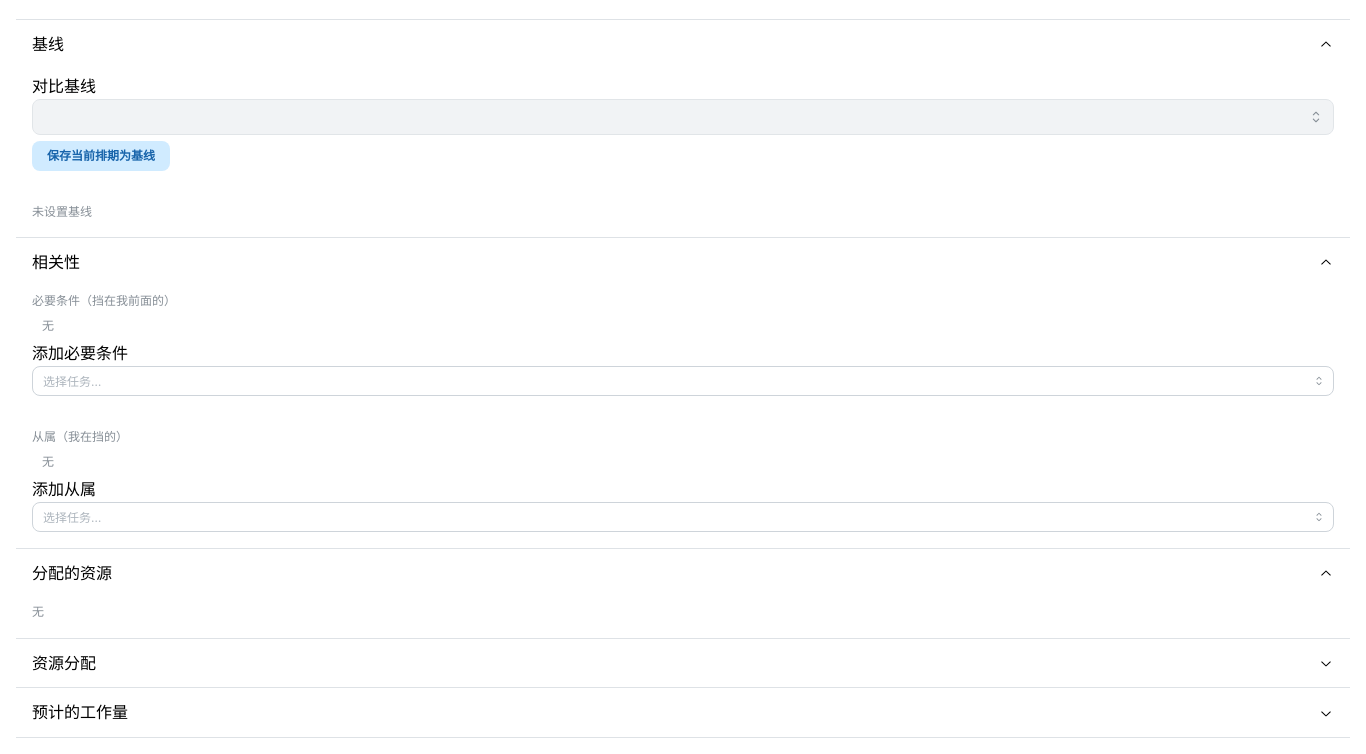
Test: 相关性组（必要条件 / 从属两段） › 在「必要条件」里添加：候选 → 本任务，且只落在「必要条件」段
(page scrolled)
Click the dropdown labelled "添加必要条件".
click(683, 381)  # box [32,366,1334,396]
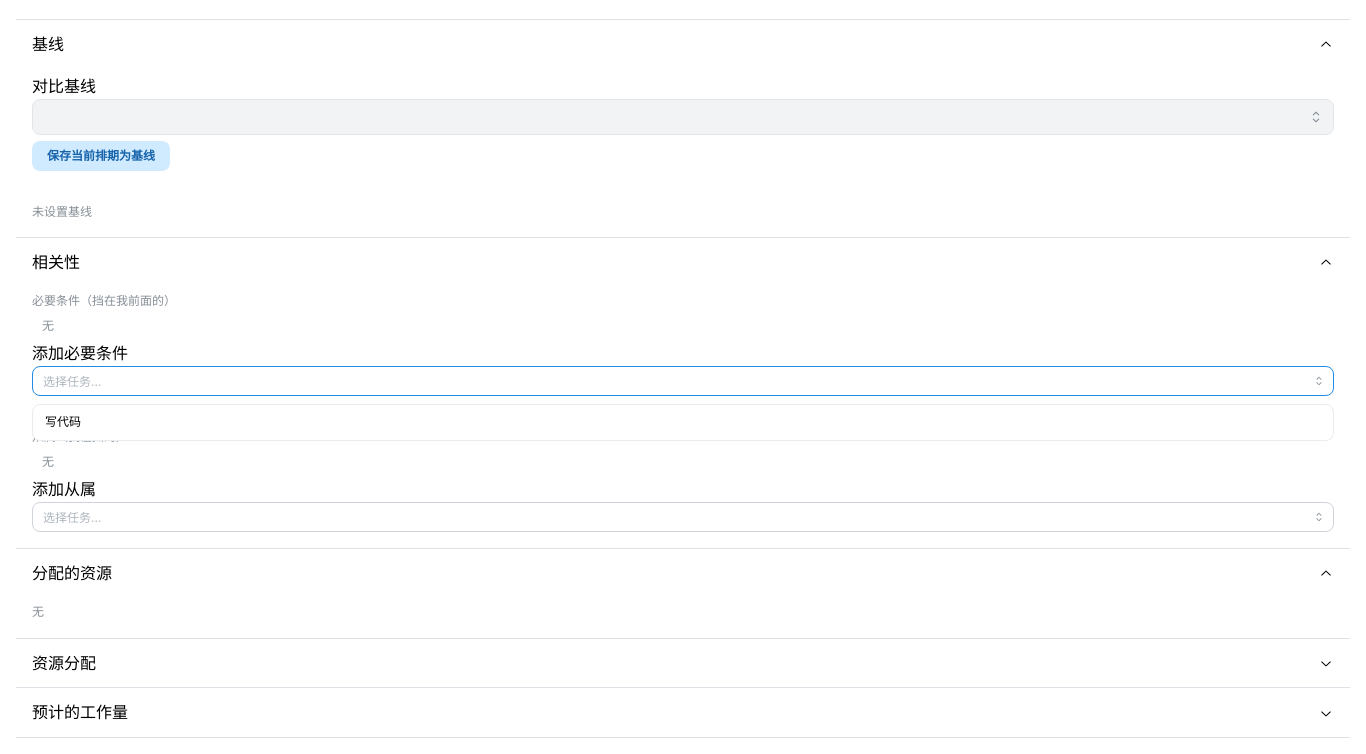
Click the option "写代码".
click(63, 422)  # box [45,414,81,429]
(page scrolled)
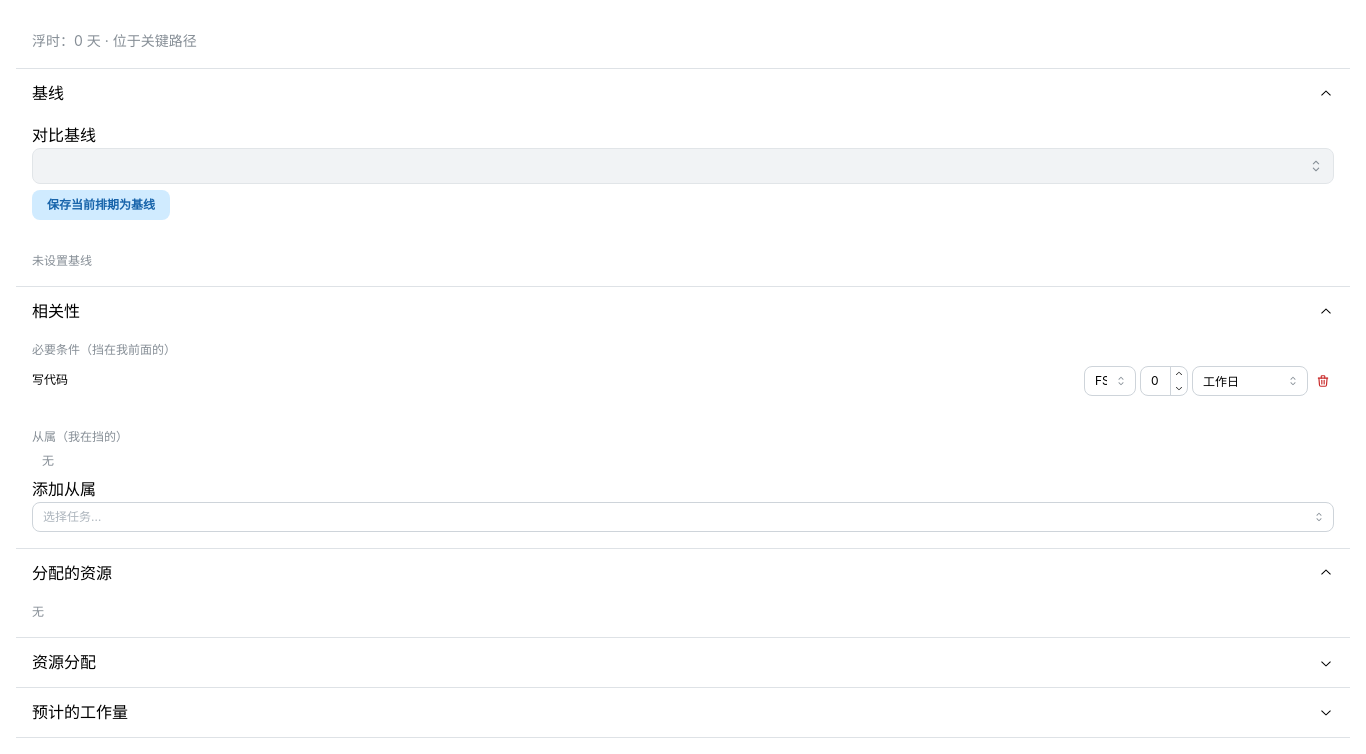
Now the text "写代码" is shown, box [32,372,68,388]
